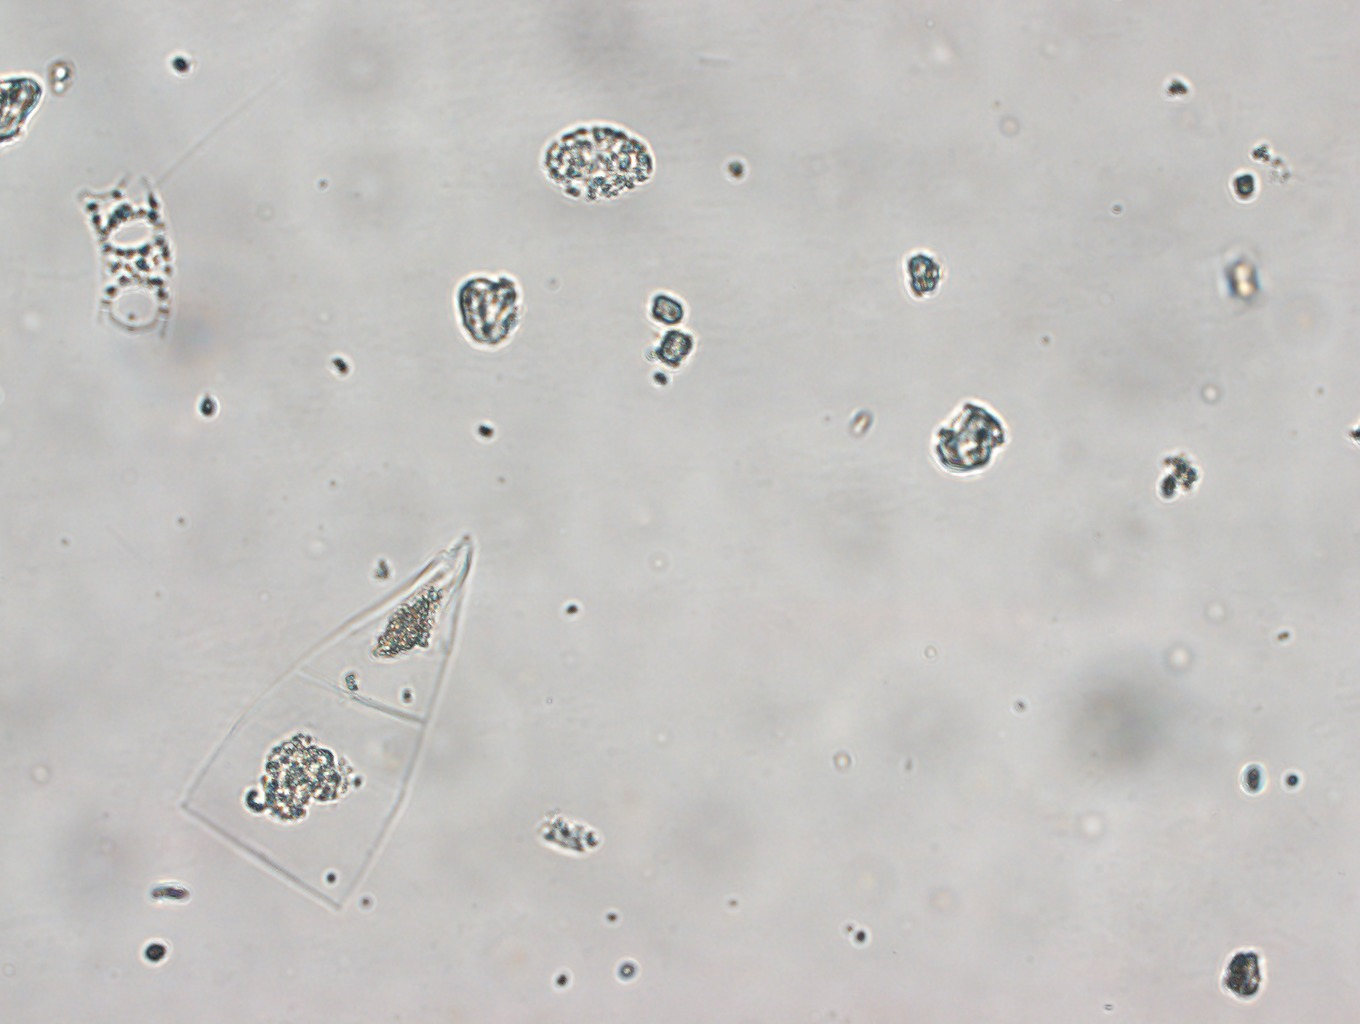eucampia: (76, 170, 173, 344)
helicotheca: (178, 532, 474, 912)
